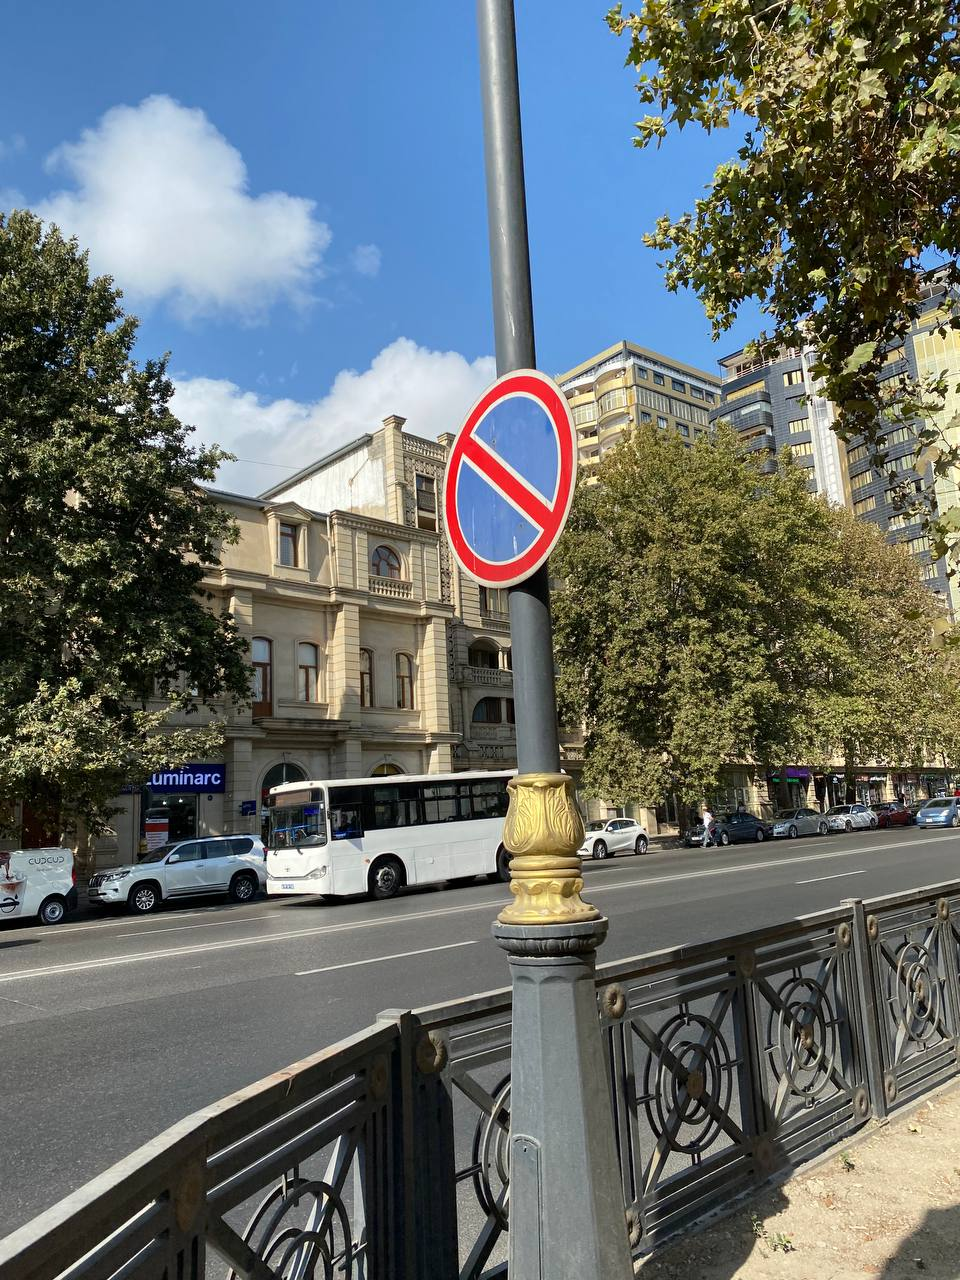No Waiting: (441, 368, 577, 588)
